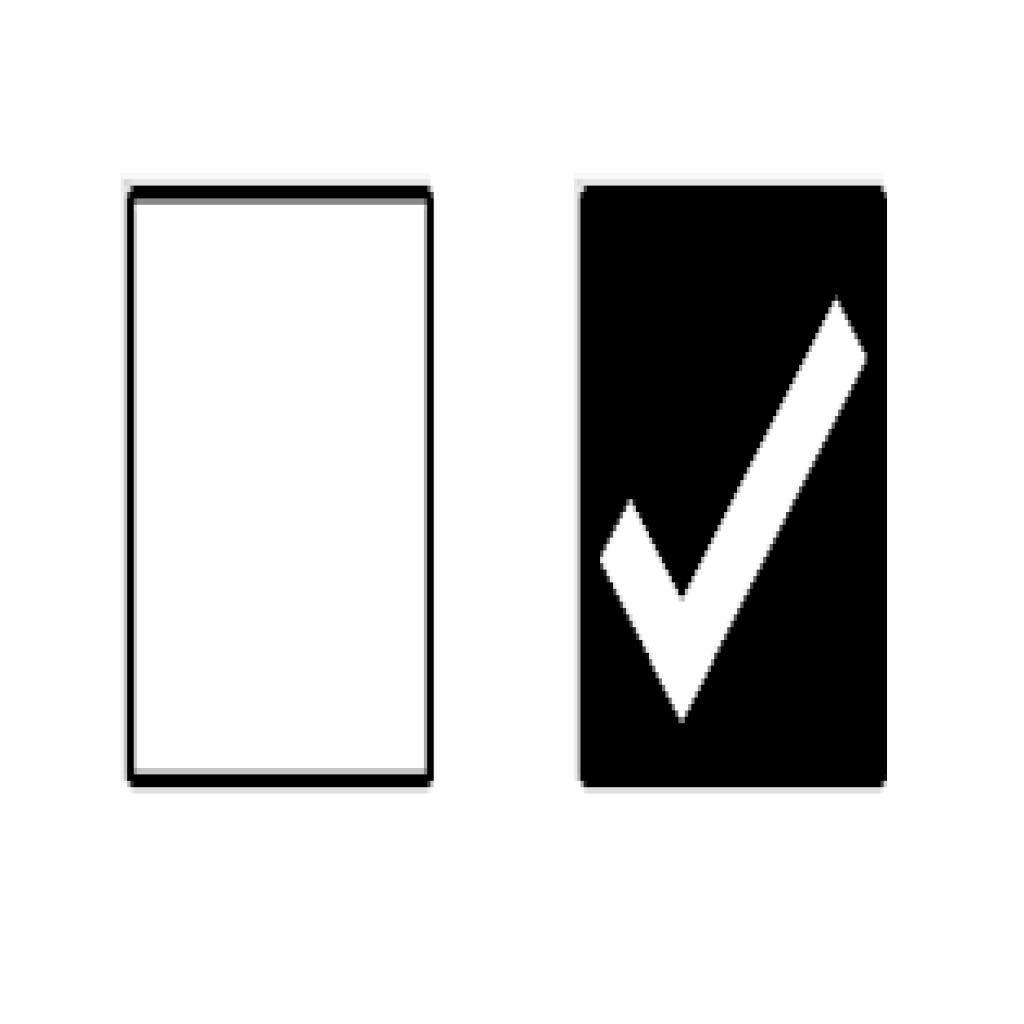checkbox: (123, 183, 439, 793), (581, 188, 888, 787)
